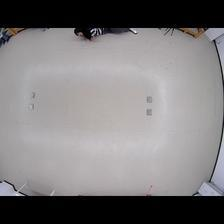fall: (72, 27, 139, 41)
